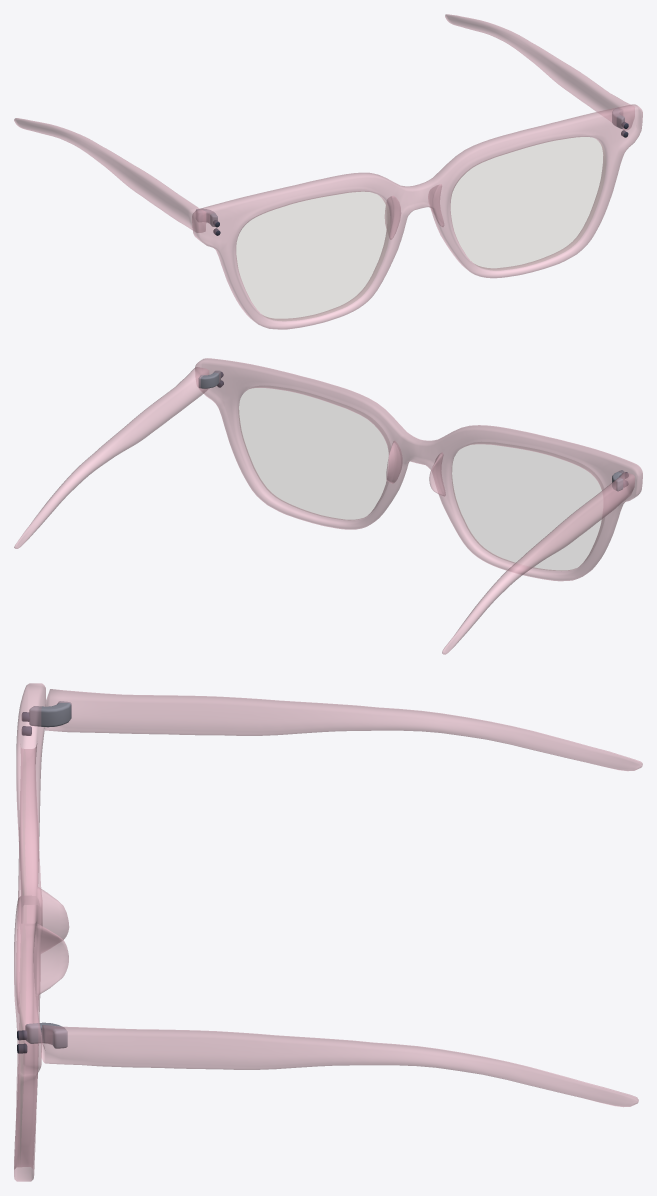
File: peony.glb
3 views of the same model, one above another, from view 1: azimuth 30°, elevation 25°; view 2: azimuth 150°, elevation 25°; view 3: azimuth 270°, elevation 25° (orthographic). The views are drawn at different scales.
Parts seen in each view (by area): view 1: model_5; view 2: model_5; view 3: model_5.
Boxes of the visible parts, box(x1,y1,x2,y2) form: model_5: box(14, 14, 642, 329); model_5: box(14, 358, 642, 654); model_5: box(14, 683, 642, 1181).
Bounding box in the file's own units: 2.27 × 0.682 × 1.73.
